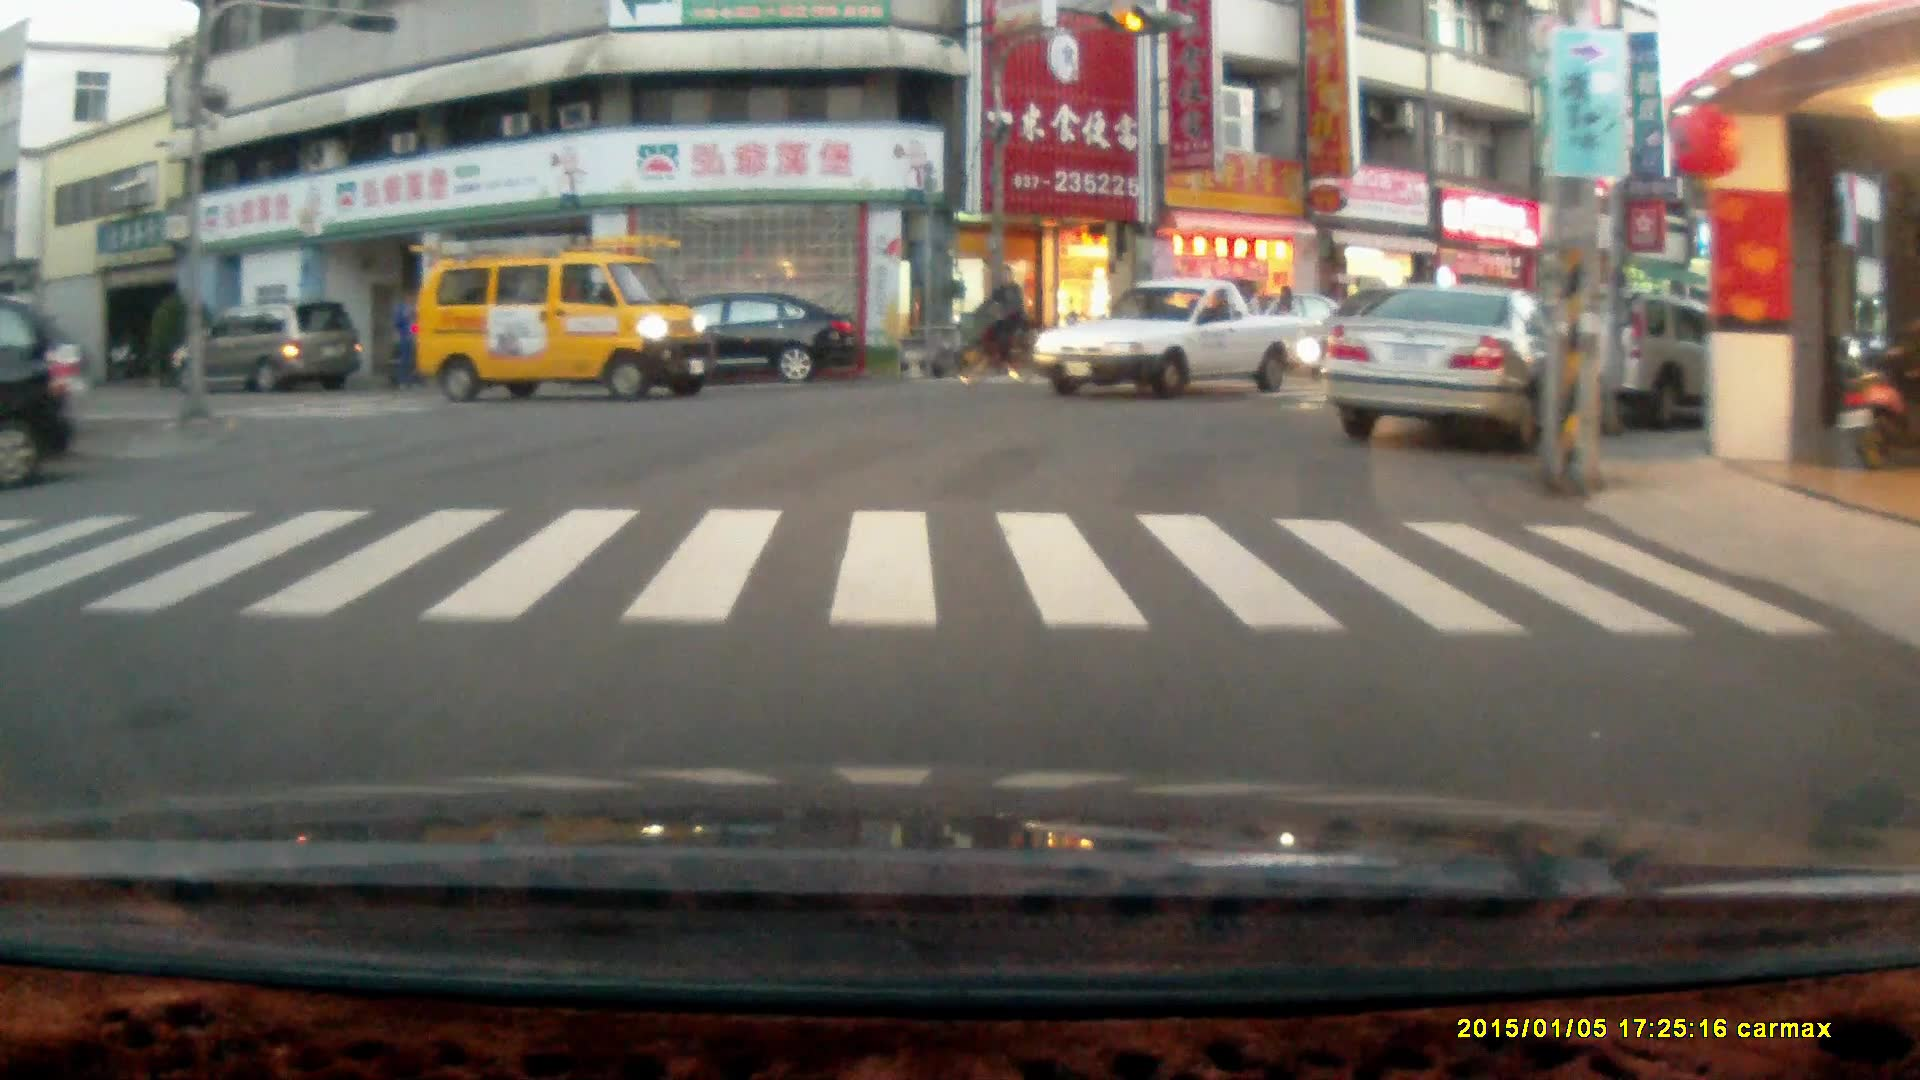pedestrian: (393, 285, 424, 385)
rider: (948, 260, 1037, 386)
vehicle: (414, 233, 711, 406), (1323, 283, 1574, 457), (1029, 272, 1313, 409), (1521, 287, 1773, 439), (616, 297, 859, 389), (171, 299, 364, 398), (5, 307, 77, 475)
